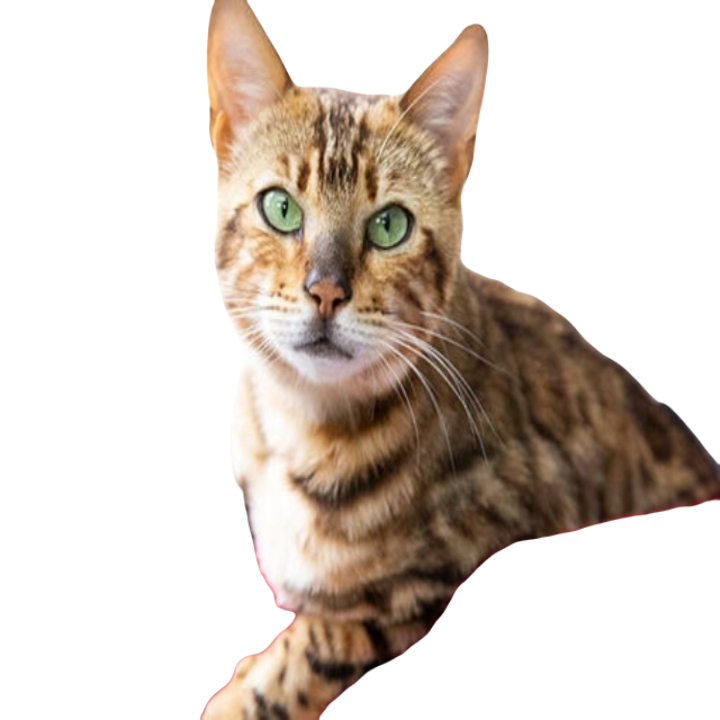Cat: (126, 0, 719, 719)
